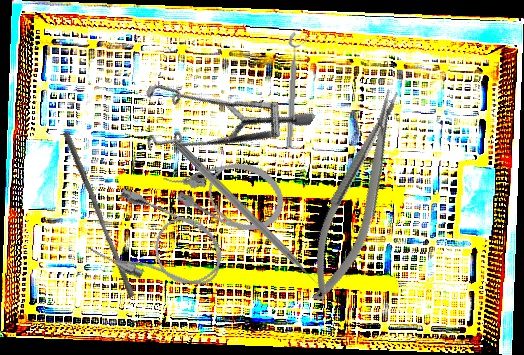Cannula: (84, 183, 235, 307), (155, 137, 294, 243)
Fixation Ring: (283, 31, 308, 148)
Needle Holder: (293, 84, 423, 309)
Pusher: (173, 141, 328, 296), (56, 131, 141, 298)
Speculum: (120, 29, 316, 217)
